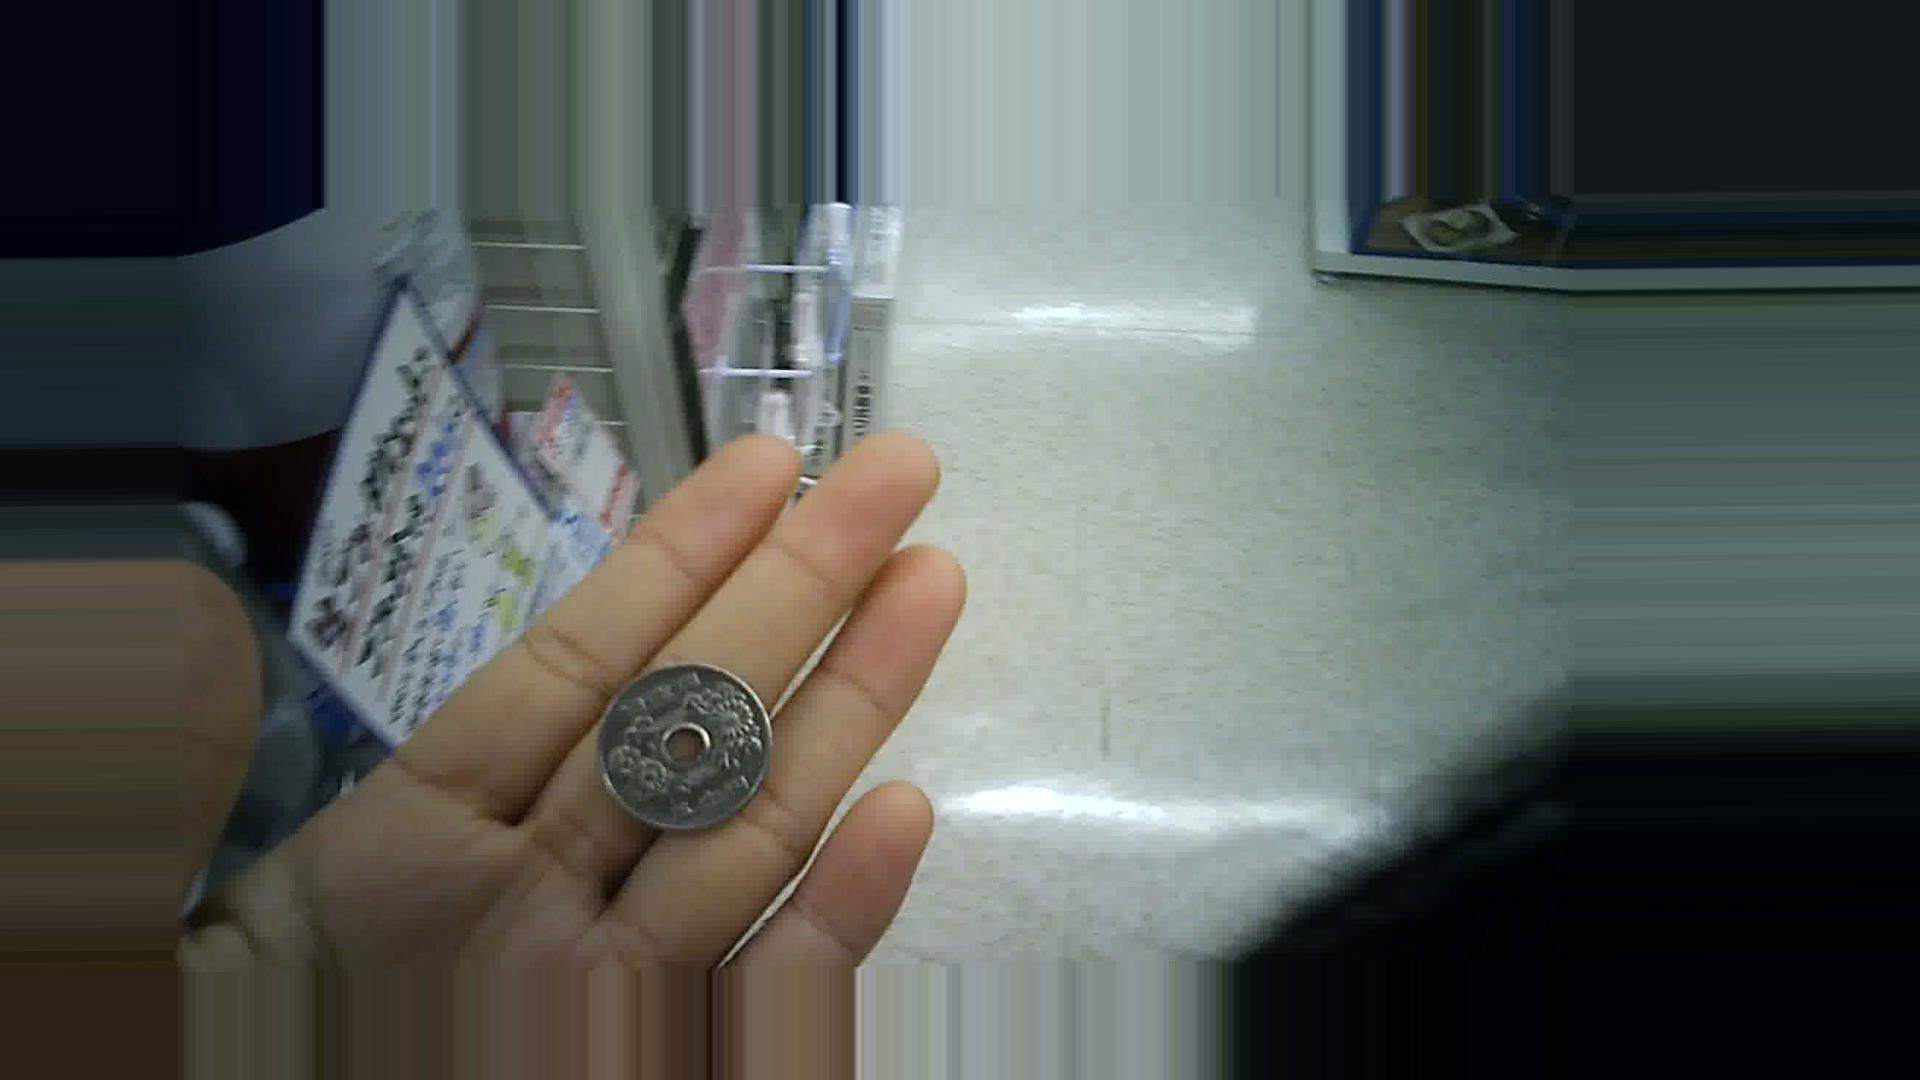50 Yen: (595, 663, 785, 833)
